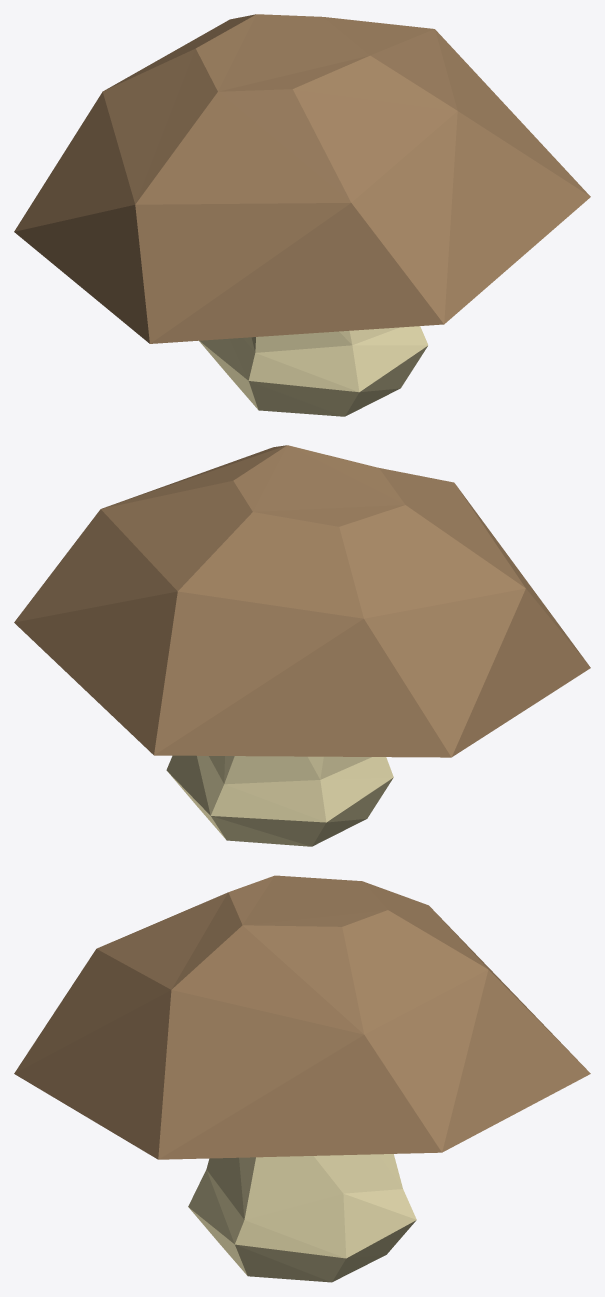
Rendered from FatMushroom.fbx.
3 views of the same model, one above another, from view 1: azimuth 30°, elevation 25°; view 2: azimuth 150°, elevation 25°; view 3: azimuth 270°, elevation 25° (orthographic). The views are drawn at different scales.
Visible parts, largest first — view 1: FatMushroom; view 2: FatMushroom; view 3: FatMushroom.
Part boxes in pixels (x1,y1,x2,y2): FatMushroom: (14, 14, 590, 416); FatMushroom: (14, 445, 590, 846); FatMushroom: (14, 875, 590, 1282).
Size of the model in its own units: 125 by 92.76 by 145.
